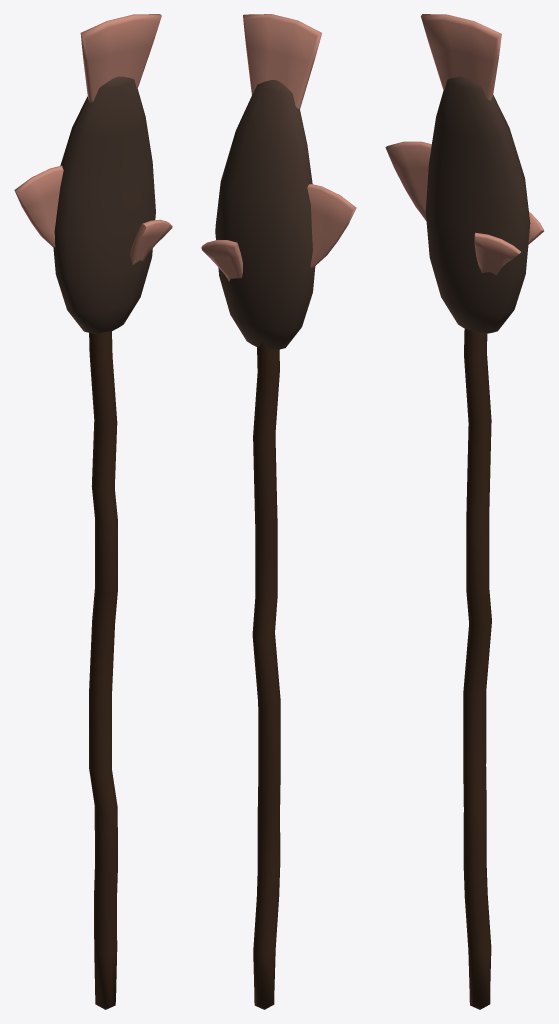
File: skewered-fish.obj
3 renders of one model, left to right at view 1: azimuth 30°, elevation 25°; view 2: azimuth 150°, elevation 25°; view 3: azimuth 330°, elevation 25°, orthographic. The views are drawn at different scales.
Parts seen in each view (by area): view 1: FishBody_Sphere, Stick_Cylinder, FishTail_Cube.001, FishFin1_Cube.002, FishFin3_Cube.004; view 2: FishBody_Sphere, Stick_Cylinder, FishTail_Cube.001, FishFin1_Cube.002, FishFin2_Cube.003; view 3: FishBody_Sphere, Stick_Cylinder, FishTail_Cube.001, FishFin1_Cube.002, FishFin3_Cube.004.
Part boxes in pixels (left/top/right/bottom): FishBody_Sphere: left=53, top=76, right=155, bottom=333; Stick_Cylinder: left=89, top=331, right=117, bottom=1009; FishTail_Cube.001: left=80, top=14, right=161, bottom=102; FishFin1_Cube.002: left=14, top=165, right=63, bottom=247; FishFin3_Cube.004: left=130, top=219, right=172, bottom=264; FishBody_Sphere: left=215, top=80, right=315, bottom=350; Stick_Cylinder: left=252, top=342, right=280, bottom=1009; FishTail_Cube.001: left=243, top=14, right=321, bottom=109; FishFin1_Cube.002: left=307, top=184, right=356, bottom=267; FishFin2_Cube.003: left=201, top=239, right=242, bottom=281; FishBody_Sphere: left=425, top=76, right=530, bottom=334; Stick_Cylinder: left=463, top=329, right=491, bottom=1009; FishTail_Cube.001: left=421, top=14, right=501, bottom=100; FishFin1_Cube.002: left=385, top=141, right=431, bottom=221; FishFin3_Cube.004: left=474, top=232, right=520, bottom=275.
Size of the model in its own units: 0.1929 by 1.27 by 0.0983.
